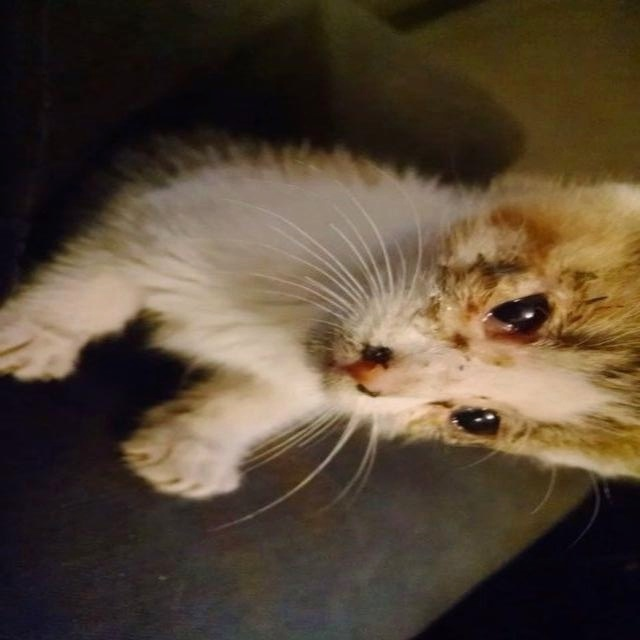eye_infection: (479, 293, 547, 355), (445, 395, 499, 448)
